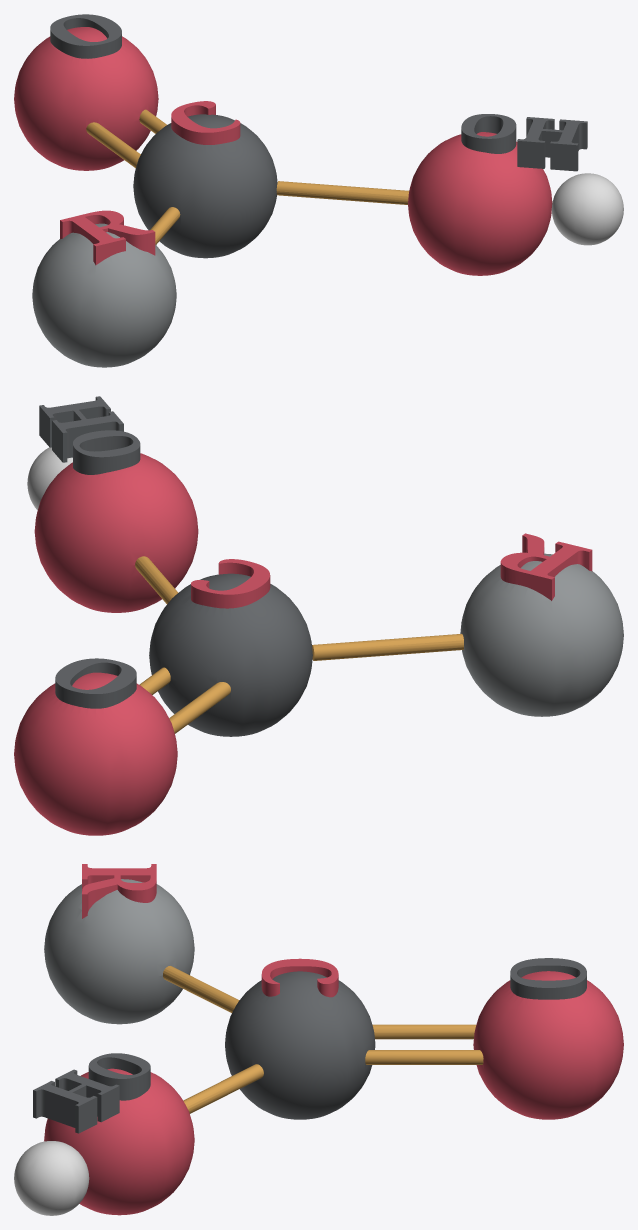
Rendered from carboxylic_acid.glb.
3 views of the same model, one above another, from view 1: azimuth 30°, elevation 25°; view 2: azimuth 150°, elevation 25°; view 3: azimuth 270°, elevation 25° (orthographic). The views are drawn at different scales.
Visible parts, largest first — view 1: Mesh_Mesh_head_geo.001_lambert2SG.001_0; view 2: Mesh_Mesh_head_geo.001_lambert2SG.001_0; view 3: Mesh_Mesh_head_geo.001_lambert2SG.001_0.
Part boxes in pixels (bbox=[...]): Mesh_Mesh_head_geo.001_lambert2SG.001_0: bbox=[14, 14, 623, 367]; Mesh_Mesh_head_geo.001_lambert2SG.001_0: bbox=[14, 396, 623, 835]; Mesh_Mesh_head_geo.001_lambert2SG.001_0: bbox=[14, 864, 623, 1215].
Size of the model in its own units: 87 by 21.5 by 81.
